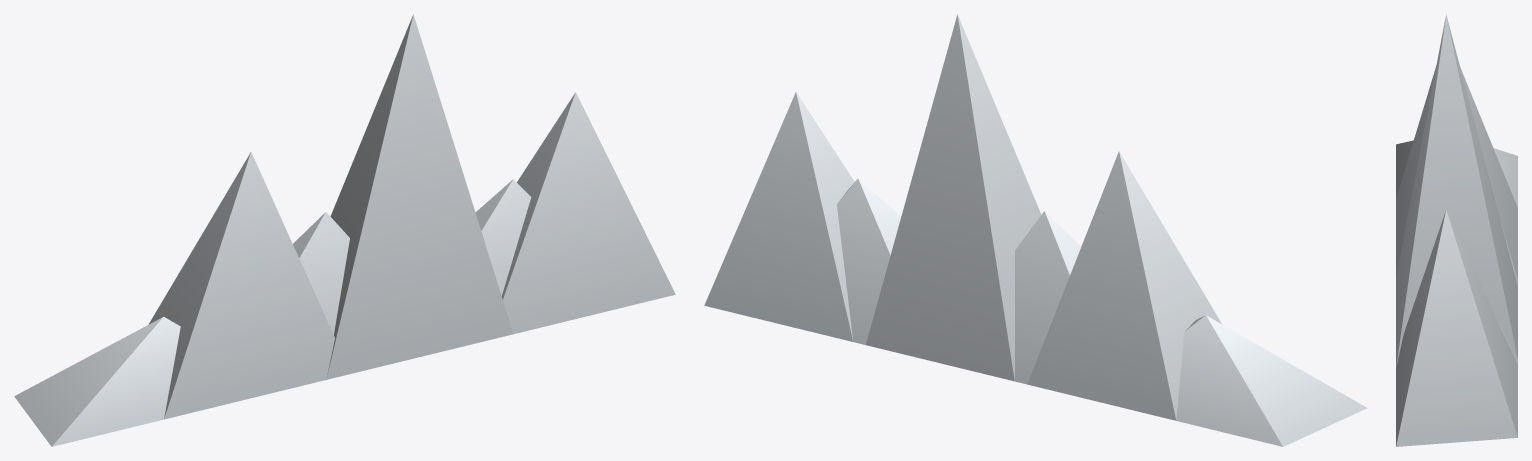
The model's file is MountainRidgeA.fbx.
3 renders of one model, left to right at view 1: azimuth 30°, elevation 25°; view 2: azimuth 150°, elevation 25°; view 3: azimuth 270°, elevation 25°, orthographic.
Parts seen in each view (by area): view 1: MountainRidgeA; view 2: MountainRidgeA; view 3: MountainRidgeA.
Boxes of the visible parts, x1,y1,x2,y2 form: MountainRidgeA: (14,14,675,446); MountainRidgeA: (704,14,1367,446); MountainRidgeA: (1396,14,1517,446).
Bounding box in the file's own units: 100 × 49 × 17.
Materials: 1 (1 with a texture image).
